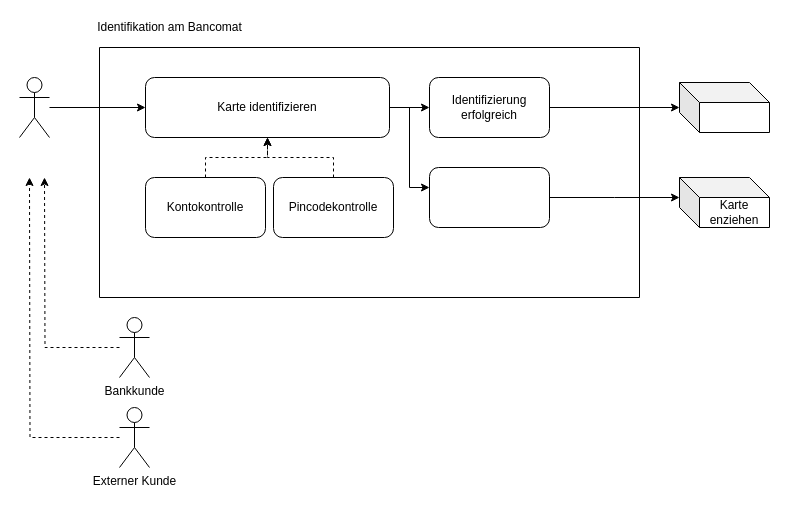
Image size: 787x505. Some labels were removed from this diagram. The centre of each missing label's shape, as x and y in pixels:
"Identifizierung mehfrach gescheitert" goes at (x=489, y=197).
"Kunde" goes at (x=34, y=107).
"Terminal" goes at (x=724, y=107).
